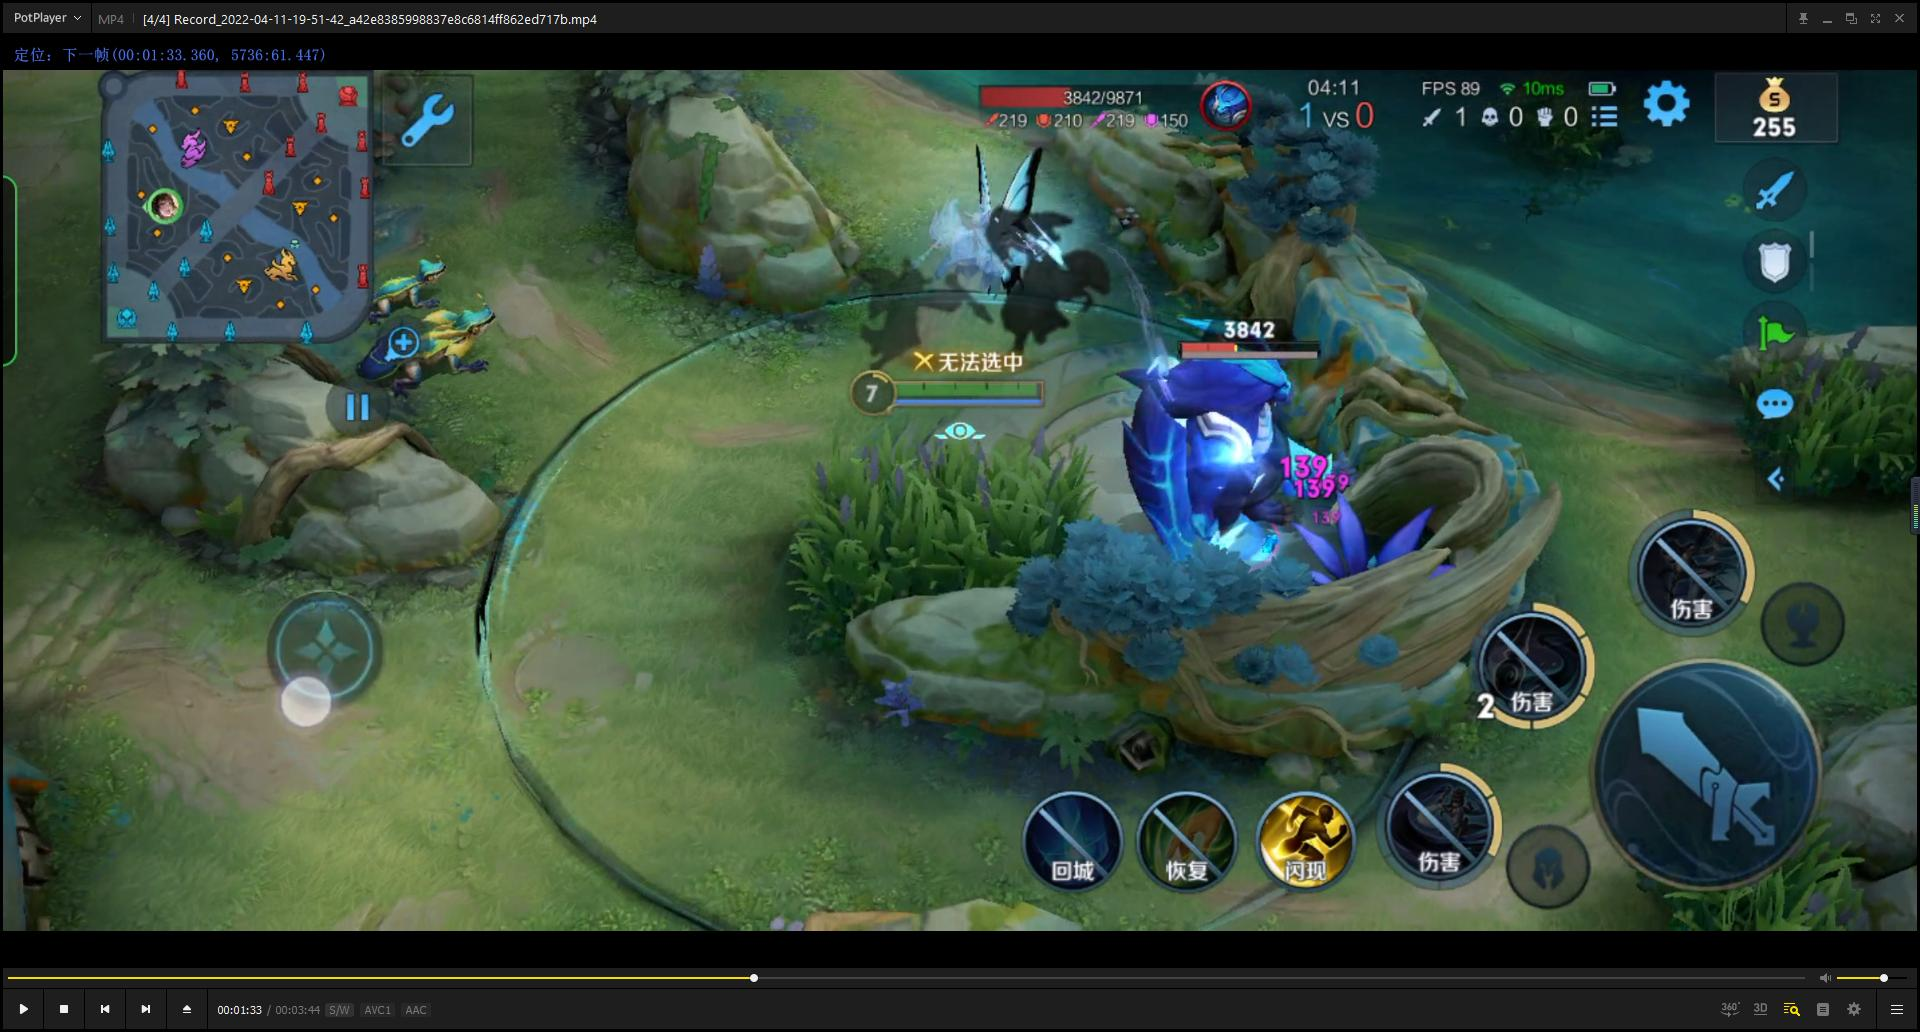Buff: (1078, 305, 1369, 595)
Hero: (844, 144, 1099, 553)
Lizard: (346, 295, 532, 403), (346, 227, 468, 320)
